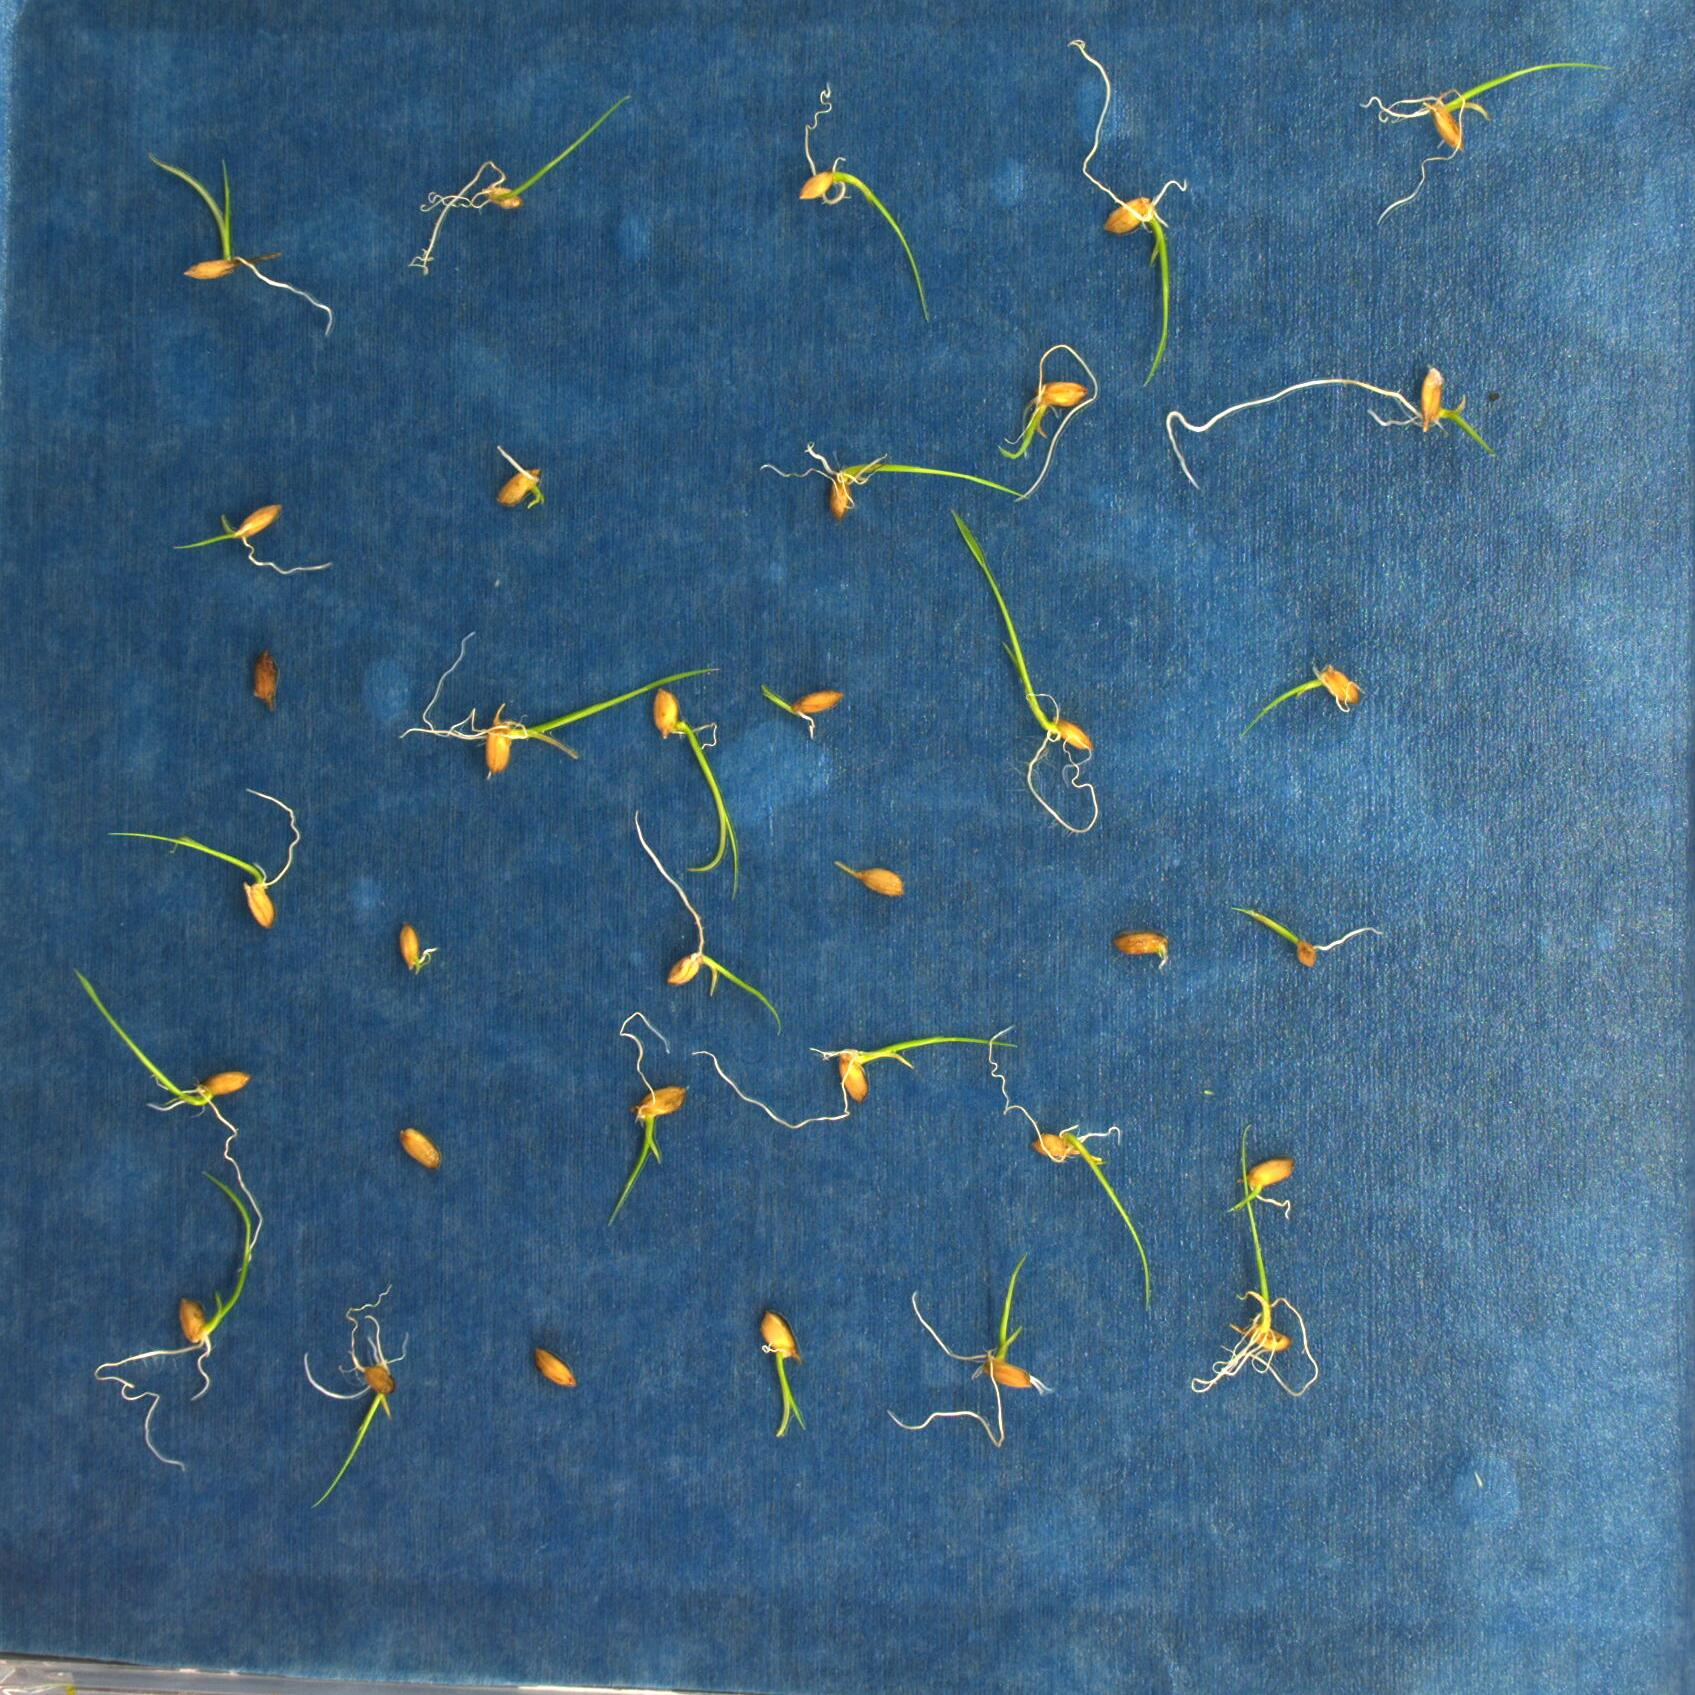not sprout: (768, 680, 857, 744), (391, 1114, 455, 1177), (835, 854, 913, 900), (526, 1335, 579, 1399), (244, 641, 290, 712), (386, 914, 438, 972), (1107, 916, 1169, 958)
sprout: (933, 498, 1133, 854), (67, 956, 265, 1270), (1048, 33, 1201, 390), (1170, 340, 1507, 498), (979, 1010, 1152, 1309), (92, 1175, 262, 1465), (396, 627, 716, 781), (1357, 43, 1614, 231), (407, 90, 635, 276), (886, 1240, 1073, 1454), (147, 151, 326, 340), (784, 75, 927, 309), (1180, 1128, 1305, 1394), (99, 782, 306, 930), (719, 1023, 990, 1135), (295, 1271, 421, 1506), (757, 445, 1052, 532), (636, 681, 757, 883), (593, 1012, 705, 1223), (638, 827, 754, 1004), (1007, 348, 1118, 508), (168, 494, 345, 585), (1217, 886, 1392, 976), (733, 1293, 823, 1453), (1246, 660, 1371, 725), (1212, 1153, 1309, 1222), (477, 441, 563, 515)
